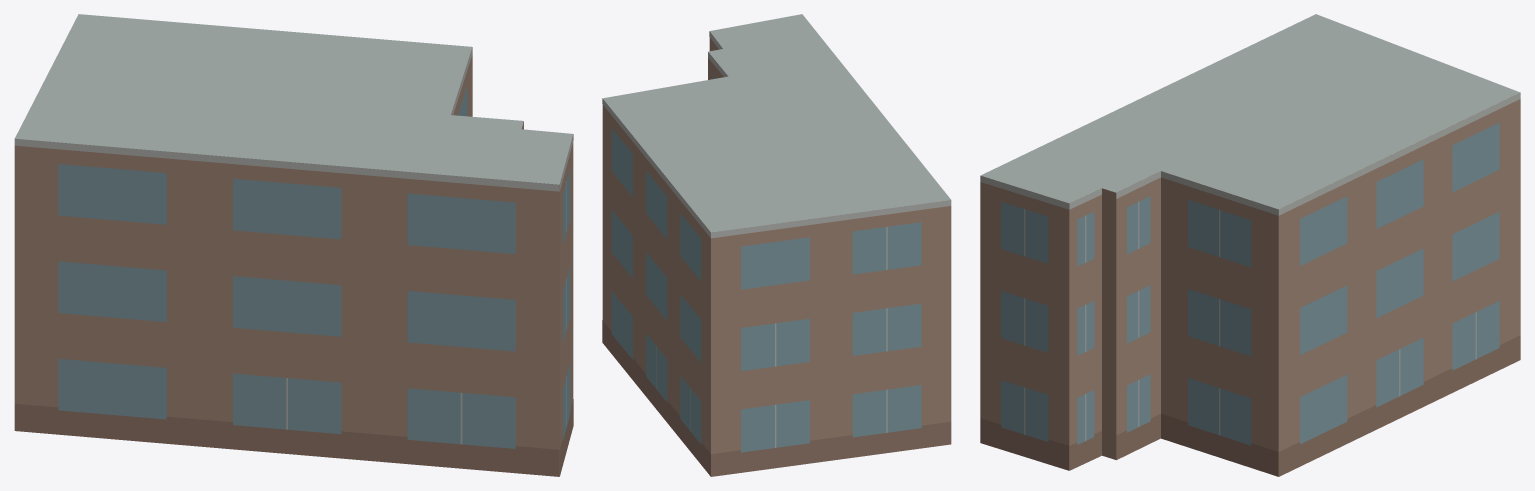
File: survey-upis-32944987.glb
3 views of the same model, side by side, from view 1: azimuth 30°, elevation 25°; view 2: azimuth 150°, elevation 25°; view 3: azimuth 270°, elevation 25° (orthographic). The views are drawn at different scales.
Visible parts, largest first — view 1: survey-upis-32944987.tmp; view 2: survey-upis-32944987.tmp; view 3: survey-upis-32944987.tmp.
Boxes of the visible parts, x1=… form: survey-upis-32944987.tmp: x1=14, y1=14, x2=573, y2=476; survey-upis-32944987.tmp: x1=602, y1=14, x2=951, y2=476; survey-upis-32944987.tmp: x1=980, y1=14, x2=1520, y2=476.
Size of the model in its own units: 16.15 by 10.3 by 18.87.
